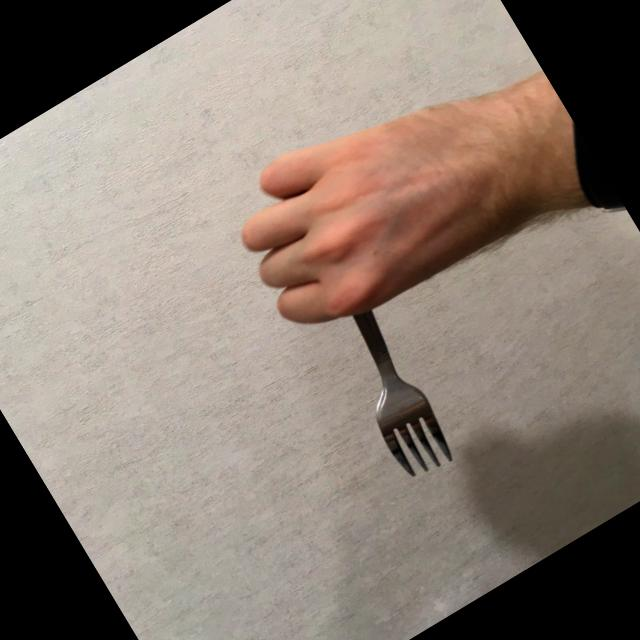fork: (282, 241, 468, 488)
